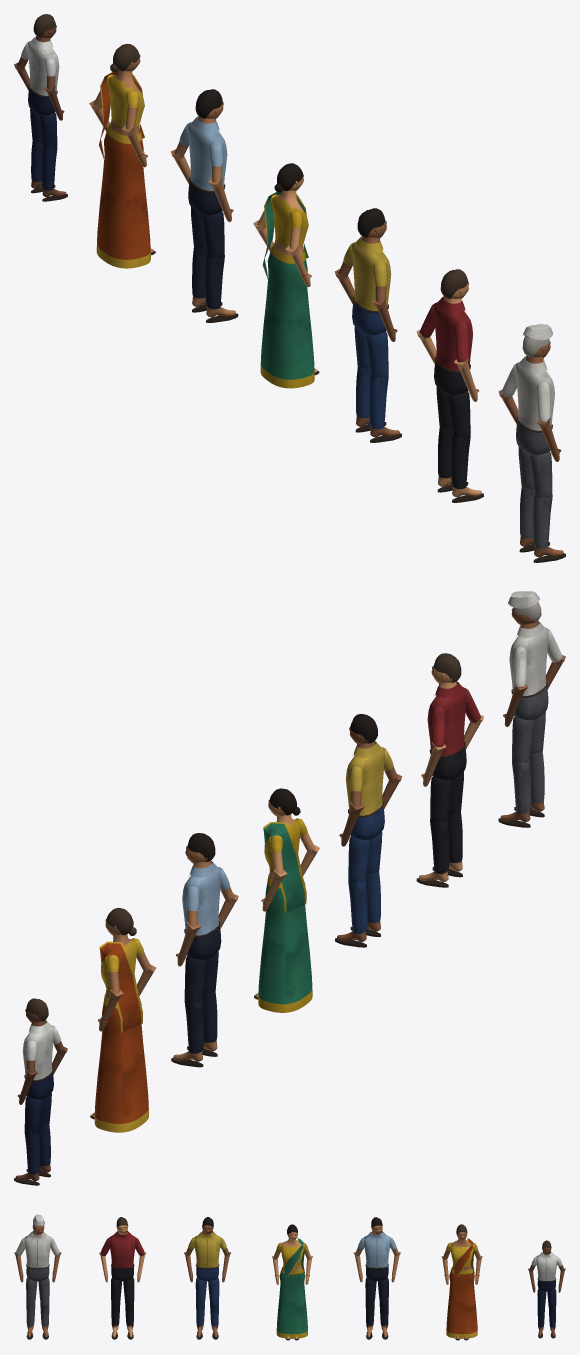
The model's file is pedestrians.glb.
3 views of the same model, one above another, from view 1: azimuth 30°, elevation 25°; view 2: azimuth 150°, elevation 25°; view 3: azimuth 270°, elevation 25° (orthographic). The views are drawn at different scales.
Parts seen in each view (by area): view 1: ped_3__cloth_#2f8f6a, ped_5__cloth_#c4521a, ped_2__cloth_#e2bf45, ped_4__cloth_#a9cbe8, ped_0__cloth_#efede6, ped_1__cloth_#9b2d30, ped_6__cloth_#f7f7f2, shin.007, shin.005, shin.003, shin.001, thigh.005 (+8 smaller); view 2: ped_3__cloth_#2f8f6a, ped_5__cloth_#c4521a, ped_4__cloth_#a9cbe8, ped_2__cloth_#e2bf45, ped_1__cloth_#9b2d30, ped_0__cloth_#efede6, ped_6__cloth_#f7f7f2, shin, shin.002, shin.006, shin.004, thigh.002 (+8 smaller); view 3: ped_5__cloth_#c4521a, ped_3__cloth_#2f8f6a, ped_2__cloth_#e2bf45, ped_0__cloth_#efede6, ped_1__cloth_#9b2d30, ped_4__cloth_#a9cbe8, ped_6__cloth_#f7f7f2, shin.006, shin.001, shin.003, shin, shin.005 (+11 smaller).
Boxes of the visible parts, x1,y1,x2,y2 form: ped_3__cloth_#2f8f6a: (260, 190, 314, 388); ped_5__cloth_#c4521a: (96, 70, 150, 268); ped_2__cloth_#e2bf45: (352, 236, 391, 335); ped_4__cloth_#a9cbe8: (188, 116, 227, 215); ped_0__cloth_#efede6: (515, 355, 554, 455); ped_1__cloth_#9b2d30: (433, 296, 472, 395); ped_6__cloth_#f7f7f2: (28, 36, 59, 115); shin.007: (205, 254, 235, 317); shin.005: (369, 374, 399, 437); shin.003: (451, 433, 481, 497); shin.001: (533, 494, 563, 557); thigh.005: (366, 331, 388, 377); ped_3__cloth_#2f8f6a: (258, 814, 312, 1012); ped_5__cloth_#c4521a: (94, 934, 148, 1132); ped_4__cloth_#a9cbe8: (182, 860, 221, 960); ped_2__cloth_#e2bf45: (345, 741, 384, 840); ped_1__cloth_#9b2d30: (427, 681, 466, 780); ped_0__cloth_#efede6: (509, 621, 548, 720); ped_6__cloth_#f7f7f2: (22, 1020, 53, 1099); shin: (500, 759, 531, 822); shin.002: (419, 819, 449, 882); shin.006: (173, 998, 204, 1061); shin.004: (337, 878, 367, 941); thigh.002: (430, 776, 452, 822); ped_5__cloth_#c4521a: (446, 1238, 477, 1338); ped_3__cloth_#2f8f6a: (276, 1238, 307, 1338); ped_2__cloth_#e2bf45: (194, 1231, 220, 1281); ped_0__cloth_#efede6: (24, 1230, 50, 1281); ped_1__cloth_#9b2d30: (109, 1231, 135, 1281); ped_4__cloth_#a9cbe8: (364, 1231, 390, 1281); ped_6__cloth_#f7f7f2: (536, 1251, 557, 1291); shin.006: (379, 1301, 388, 1337); shin.001: (26, 1301, 35, 1337); shin.003: (111, 1301, 120, 1337); shin: (40, 1301, 49, 1337); shin.005: (196, 1301, 204, 1337).
Bounding box in the file's own units: 0.179 × 0.7693 × 3.25.
Materials: 42 (17 with a texture image).
